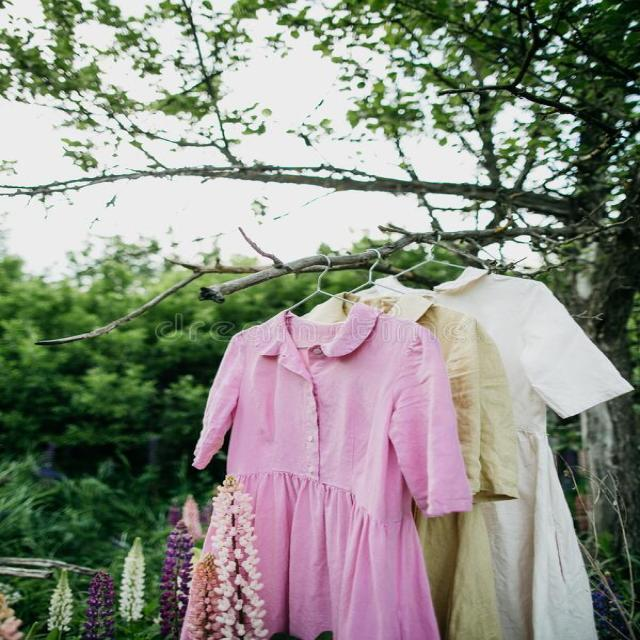clothes: (206, 312, 616, 637)
